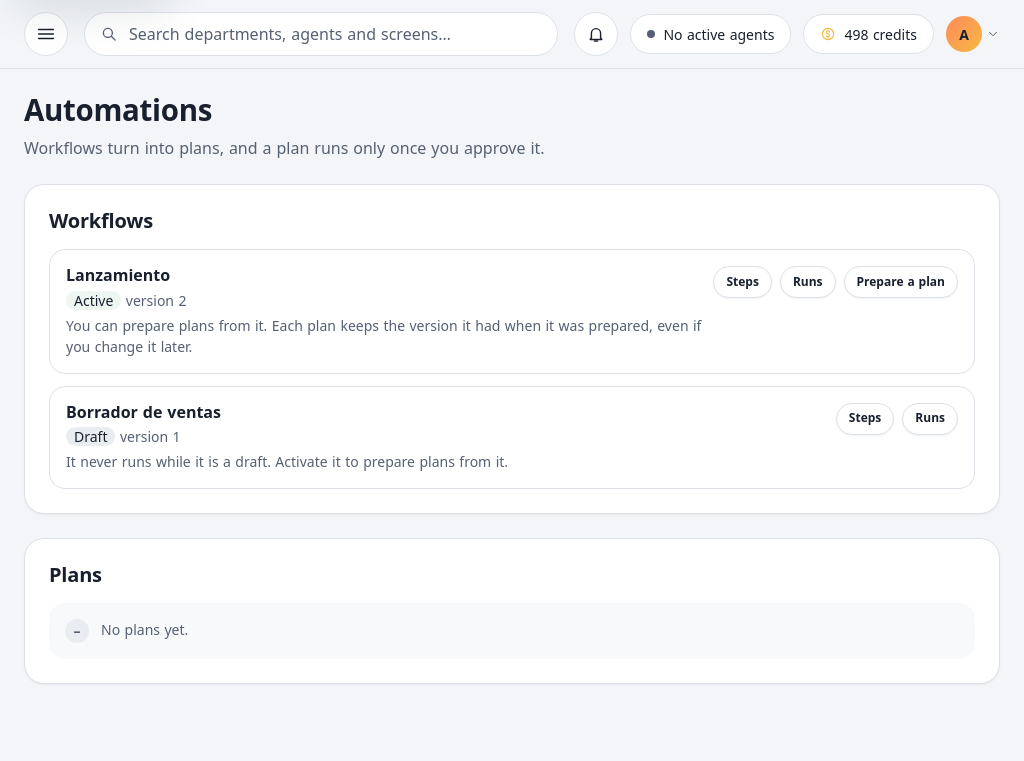
Test: Automations (WF-3) › says why a plan was refused and opens nothing
Step 1. Click the button "Prepare a plan" → [901, 282], box [844, 266, 958, 298]
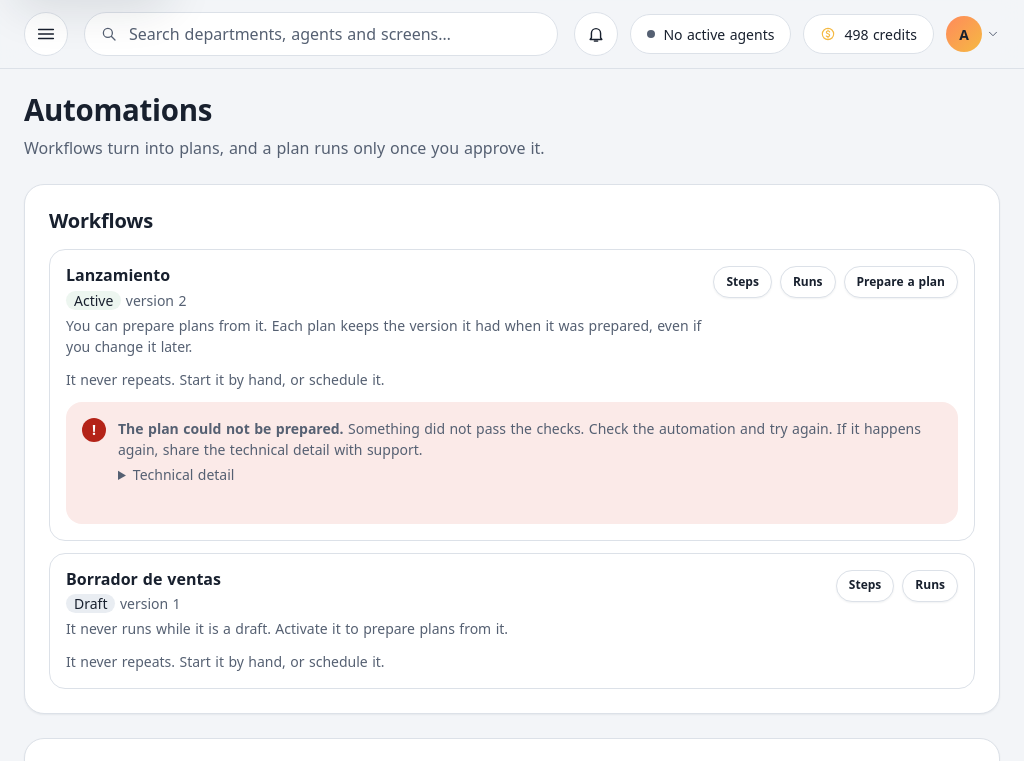
expect the text "Something did not pass the checks." shows "The plan could not be prepared.": met, box [118, 418, 344, 438]
expect the text "Something did not pass the checks." shows "share the technical detail with support": met, box [118, 418, 921, 458]
expect the heading "Technical detail" is shown: met, box [133, 464, 234, 484]
